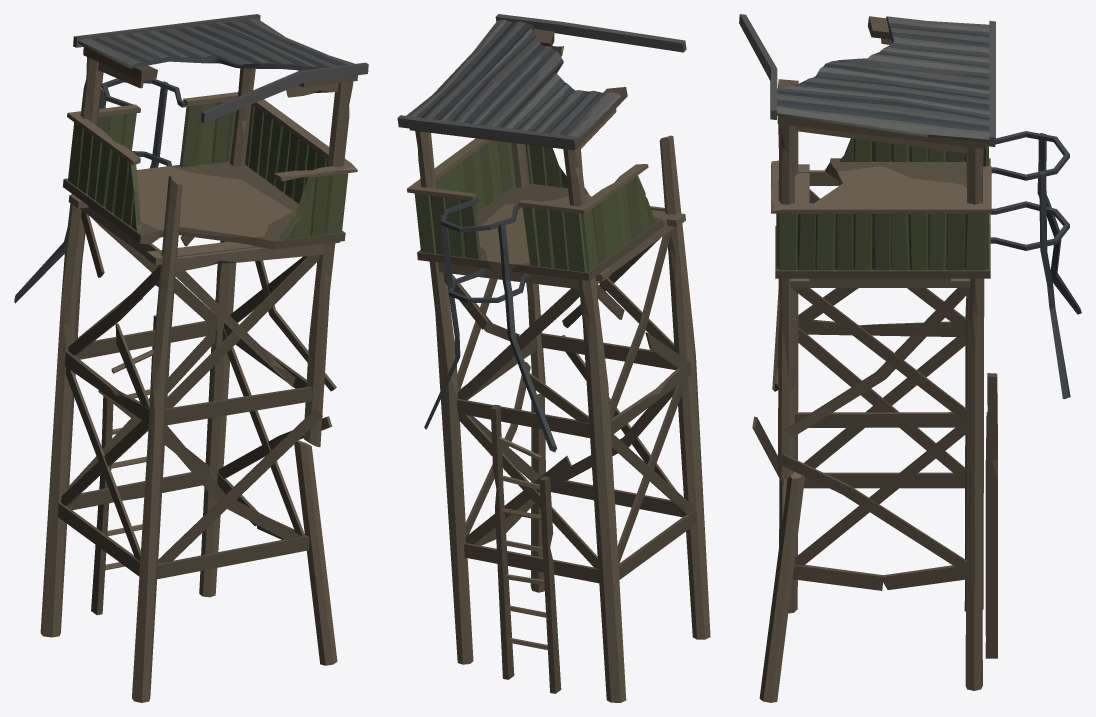
Rendered from SM_Bld_GuardTower_Destroyed_01.glb.
3 views of the same model, side by side, from view 1: azimuth 30°, elevation 25°; view 2: azimuth 150°, elevation 25°; view 3: azimuth 270°, elevation 25° (orthographic). The views are drawn at different scales.
Visible parts, largest first — view 1: SM_Bld_GuardTower_Destroyed_01; view 2: SM_Bld_GuardTower_Destroyed_01; view 3: SM_Bld_GuardTower_Destroyed_01.
Boxes of the visible parts, left/top/right/bottom form: SM_Bld_GuardTower_Destroyed_01: left=14, top=14, right=368, bottom=702; SM_Bld_GuardTower_Destroyed_01: left=397, top=14, right=710, bottom=702; SM_Bld_GuardTower_Destroyed_01: left=739, top=14, right=1081, bottom=702.
Bounding box in the file's own units: 3.58 × 8.91 × 4.47.
Materials: 1 (1 with a texture image).
